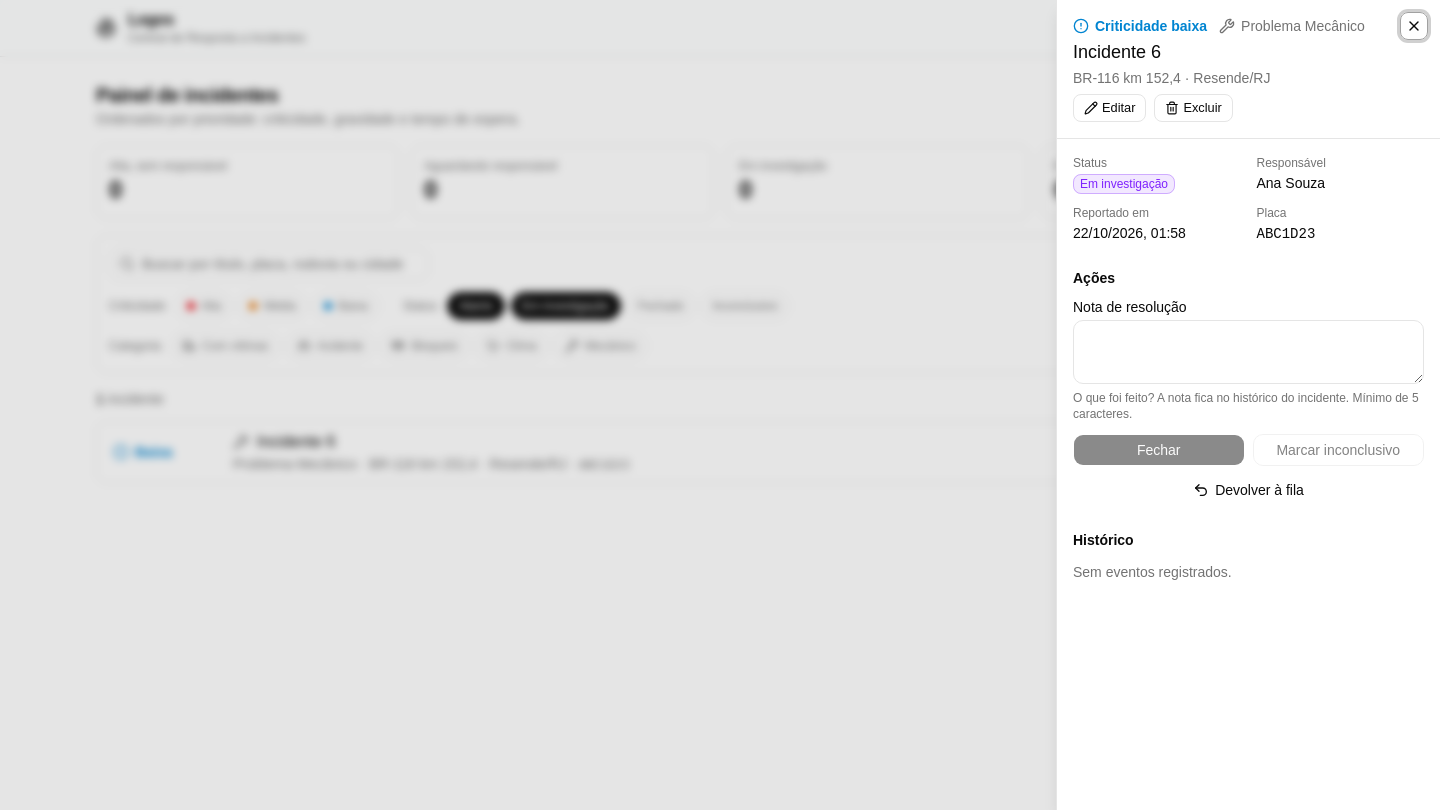
Test: ações sobre o incidente › responsável fecha com nota obrigatória, enviando a versão que leu
Expected: the button "Fechar" is disabled, [1073,434,1244,466]
Type "ok" into the text box labelled "Nota de resolução". click: (1248, 352)
box: [1073,320,1424,384]
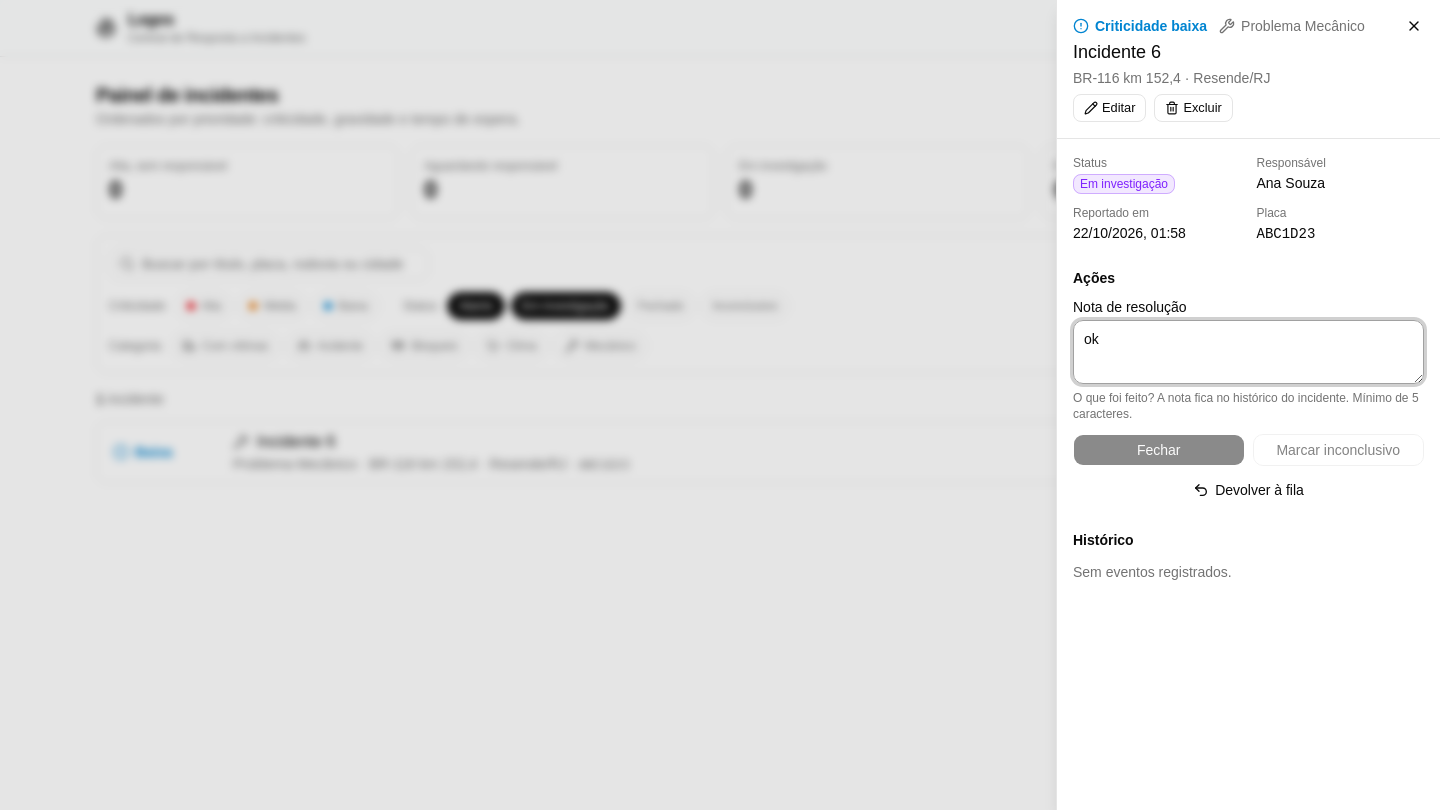
Expected: the button "Fechar" is disabled, [1073,434,1244,466]
Type " resolvido" into the text box labelled "Nota de resolução". click: (1248, 352)
box: [1073,320,1424,384]
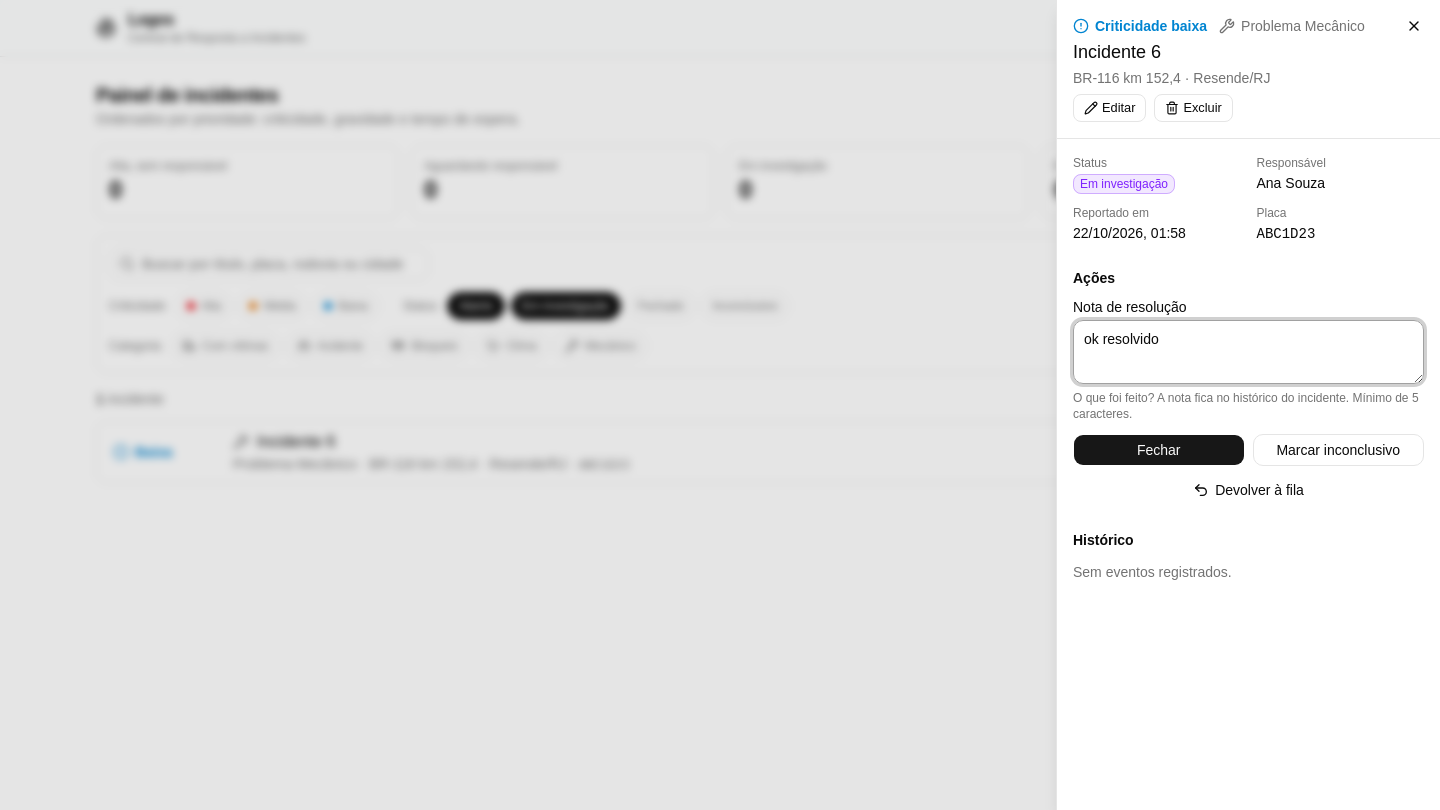
Click the button "Fechar". click: (1159, 450)
box: [1073,434,1244,466]
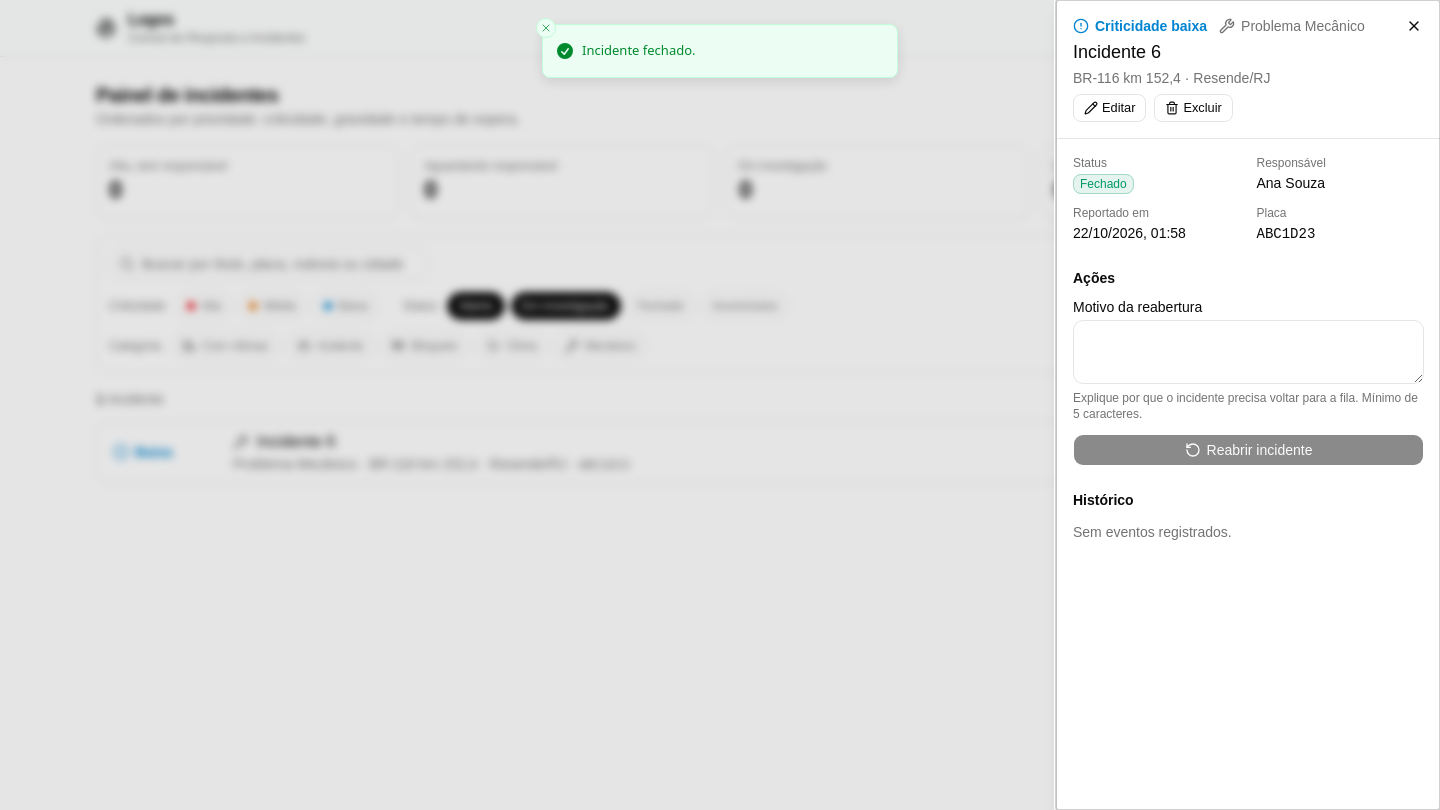
Expected: the text "Incidente fechado." is shown, [582,41,696,60]
